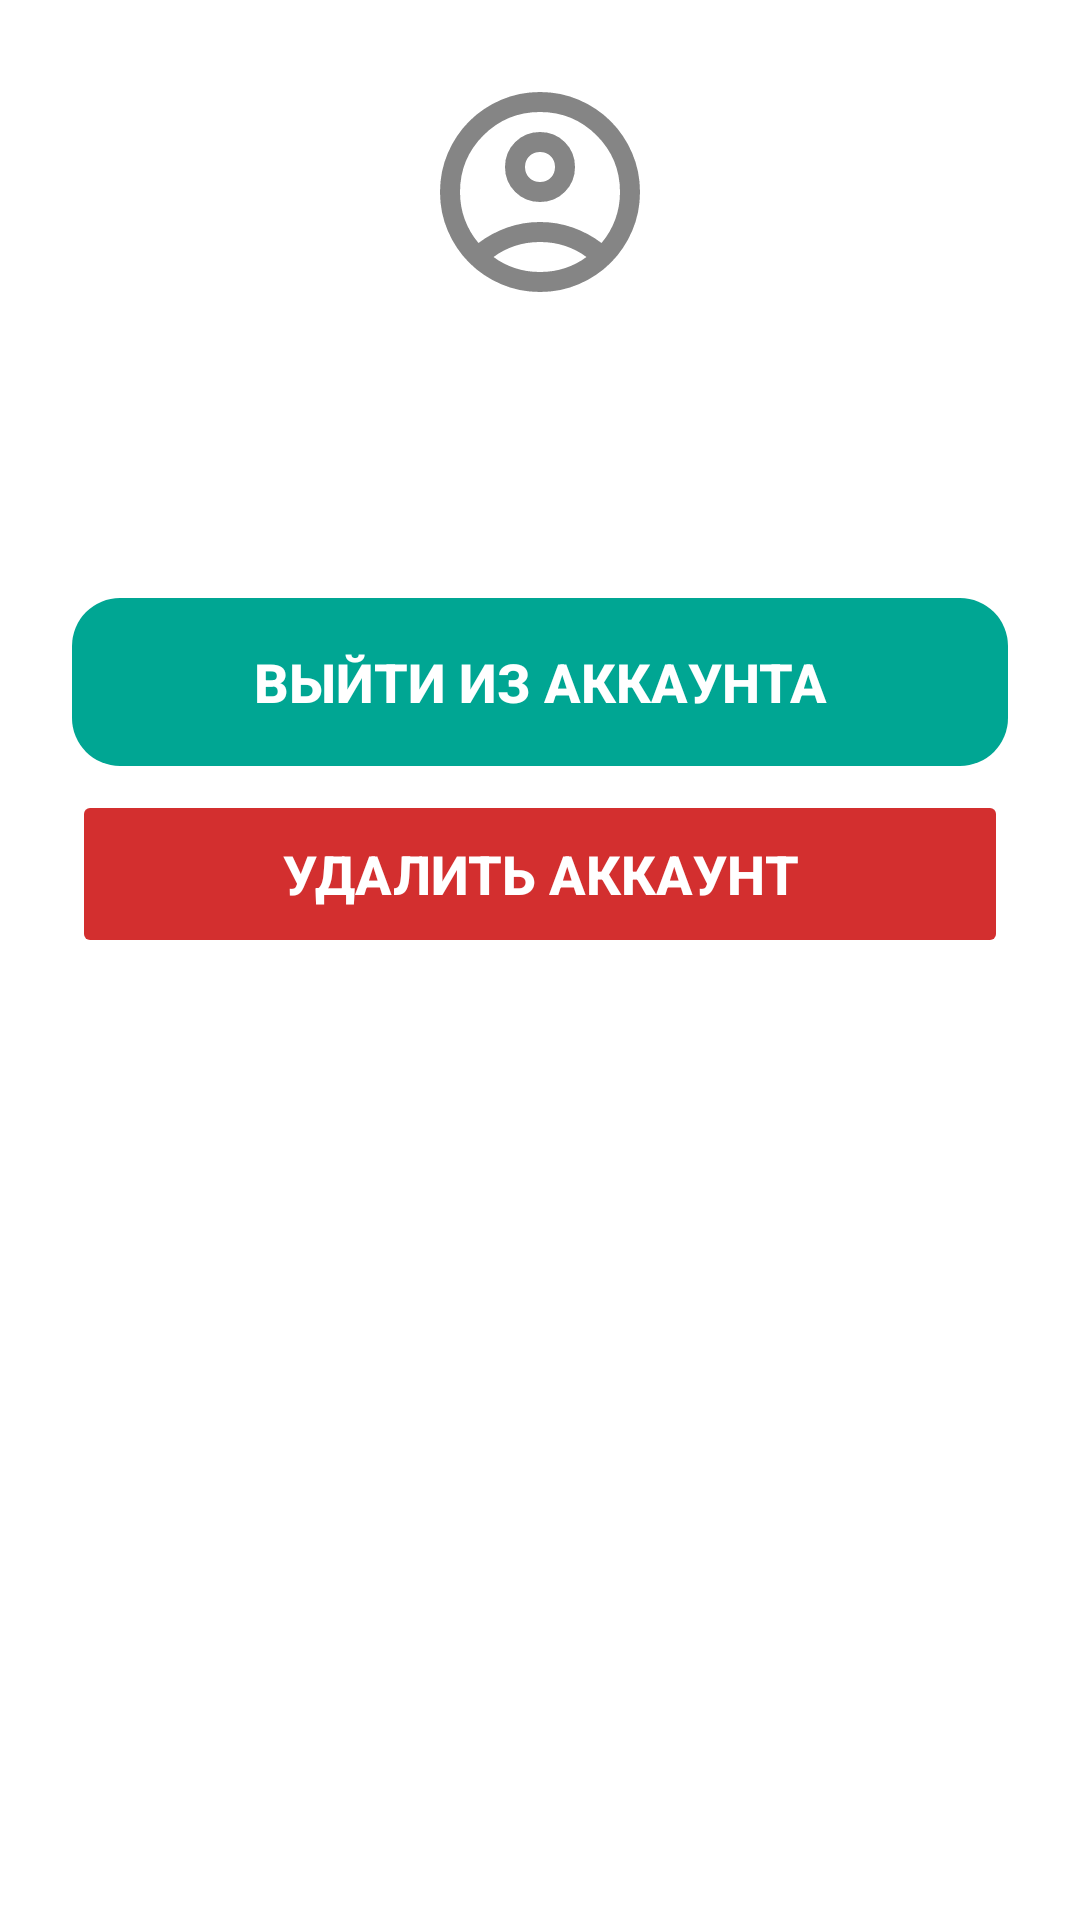

Icon click points for this 1080px x 1920px phone screenshot, format (x=x, y=y):
profile: (x=540, y=192)
